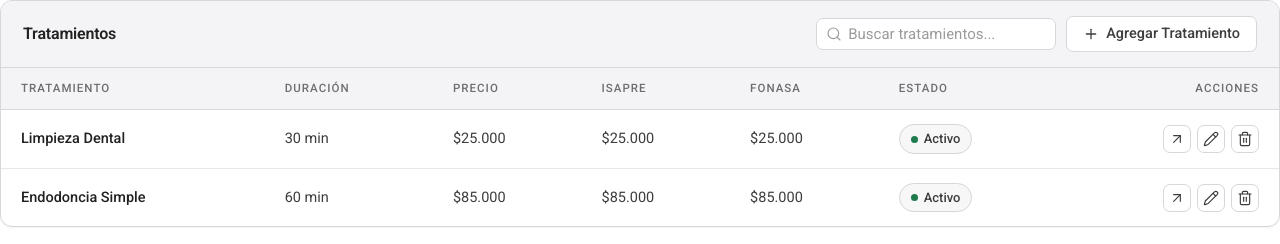
it: TreatmentsManager — CRUD & Medical Autocomplete Integration › renders treatment cards and filters them dynamically via search term
This screenshot has width=1280, height=244.
Expected: the text "Limpieza Dental" is shown, 1,110 -> 265,168
Expected: the text "Endodoncia Simple" is shown, 1,168 -> 265,226
Type in search bar
In the field with placeholder "Buscar tratamientos...": (936, 34) 816,18 -> 1056,50, type "Limpieza"
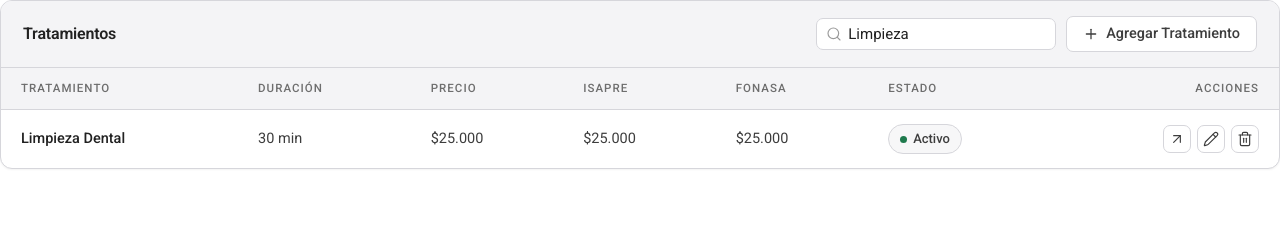
Expected: the text "Limpieza Dental" is shown, 1,110 -> 238,168
Expected: the text "Endodoncia Simple" is gone
